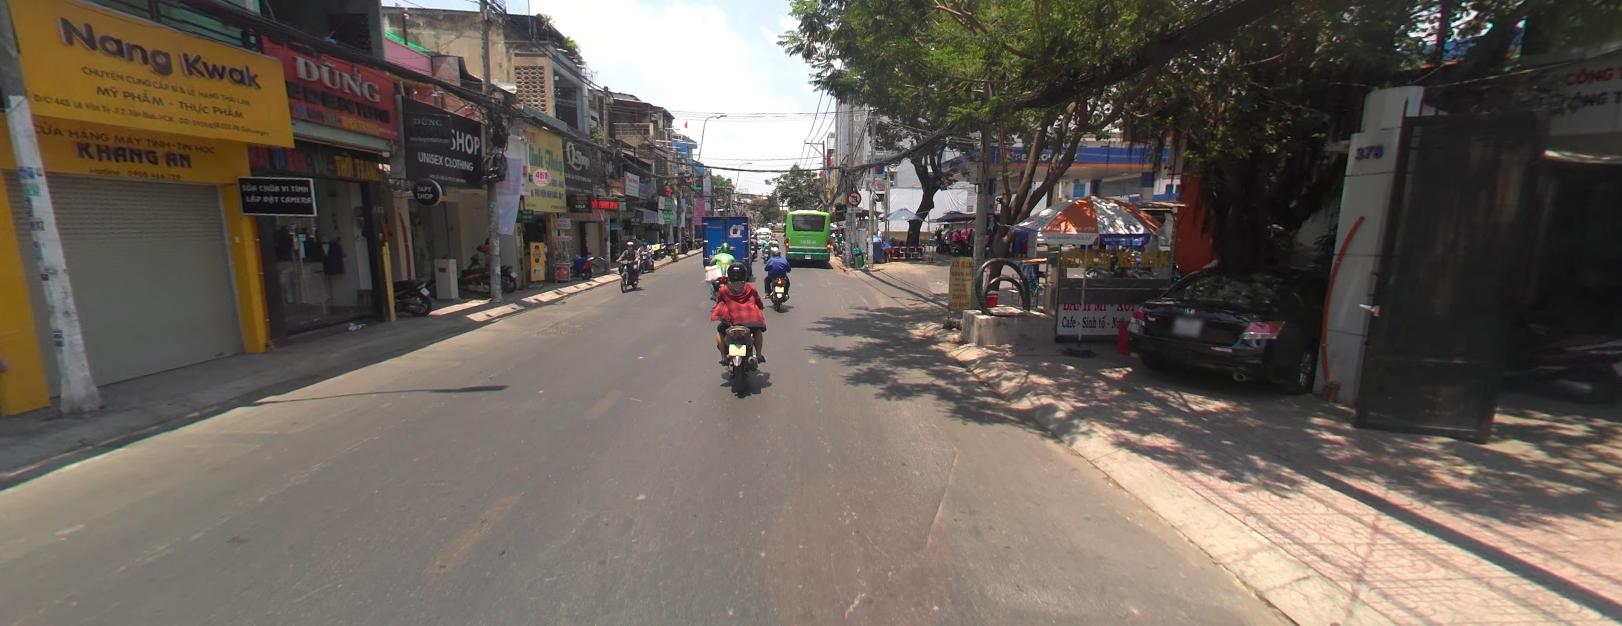Cam re: (847, 190, 860, 203)
